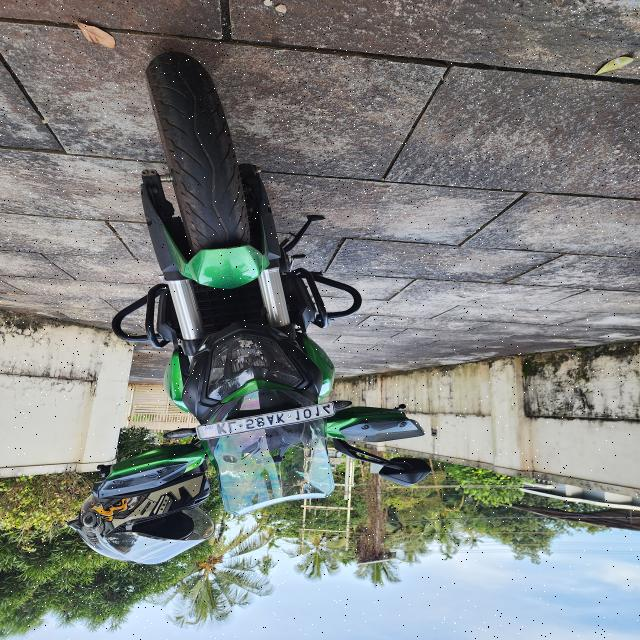headlight: (196, 327, 315, 403)
